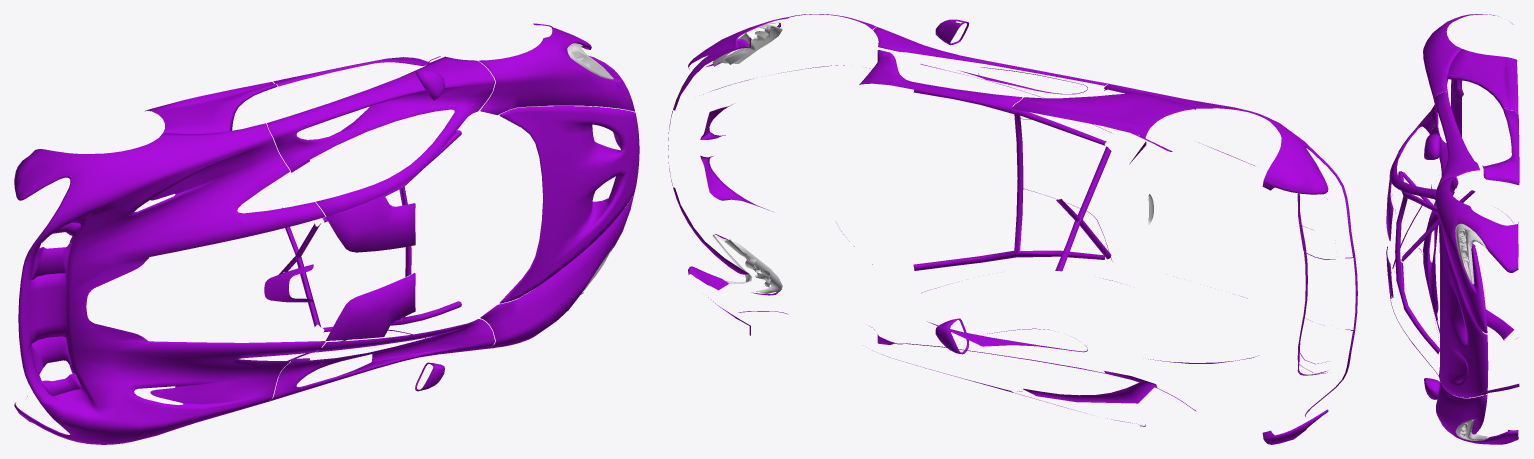
Rendered from chassis.glb.
3 renders of one model, left to right at view 1: azimuth 30°, elevation 25°; view 2: azimuth 150°, elevation 25°; view 3: azimuth 270°, elevation 25°, orthographic. The views are drawn at different scales.
Parts seen in each view (by area): view 1: chassis2; view 2: chassis2; view 3: chassis2.
Part boxes in pixels (x1,y1,x2,y2): chassis2: (14, 23, 639, 444); chassis2: (668, 14, 1357, 444); chassis2: (1386, 14, 1519, 444).
Size of the model in its own units: 2.34 by 1.11 by 0.5114.
